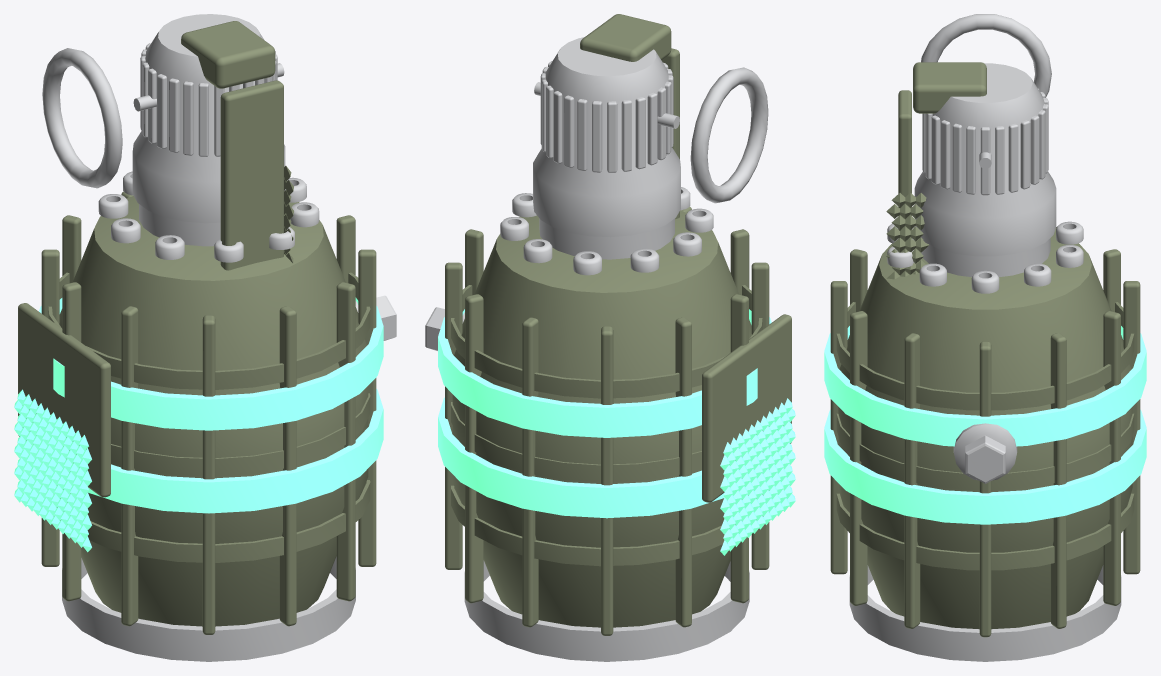
File: mega-weapon-pack-frag-grenade-557e7011.glb
3 renders of one model, left to right at view 1: azimuth 30°, elevation 25°; view 2: azimuth 150°, elevation 25°; view 3: azimuth 270°, elevation 25°, orthographic. The views are drawn at different scales.
Visible parts, largest first — view 1: frag-grenade; view 2: frag-grenade; view 3: frag-grenade.
Part boxes in pixels (x1,y1,x2,y2): frag-grenade: (14, 14, 396, 661); frag-grenade: (425, 14, 795, 661); frag-grenade: (824, 14, 1146, 661).
Bounding box in the file's own units: 0.0685 × 0.1125 × 0.0611.
